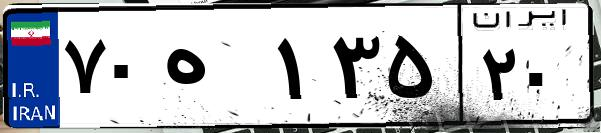0: (525, 38, 570, 115), (110, 28, 158, 98)
1: (270, 28, 330, 110)
2: (475, 38, 525, 113)
3: (330, 28, 385, 110)
5: (385, 28, 445, 110)
7: (57, 26, 110, 100)
ه: (158, 20, 270, 120)
